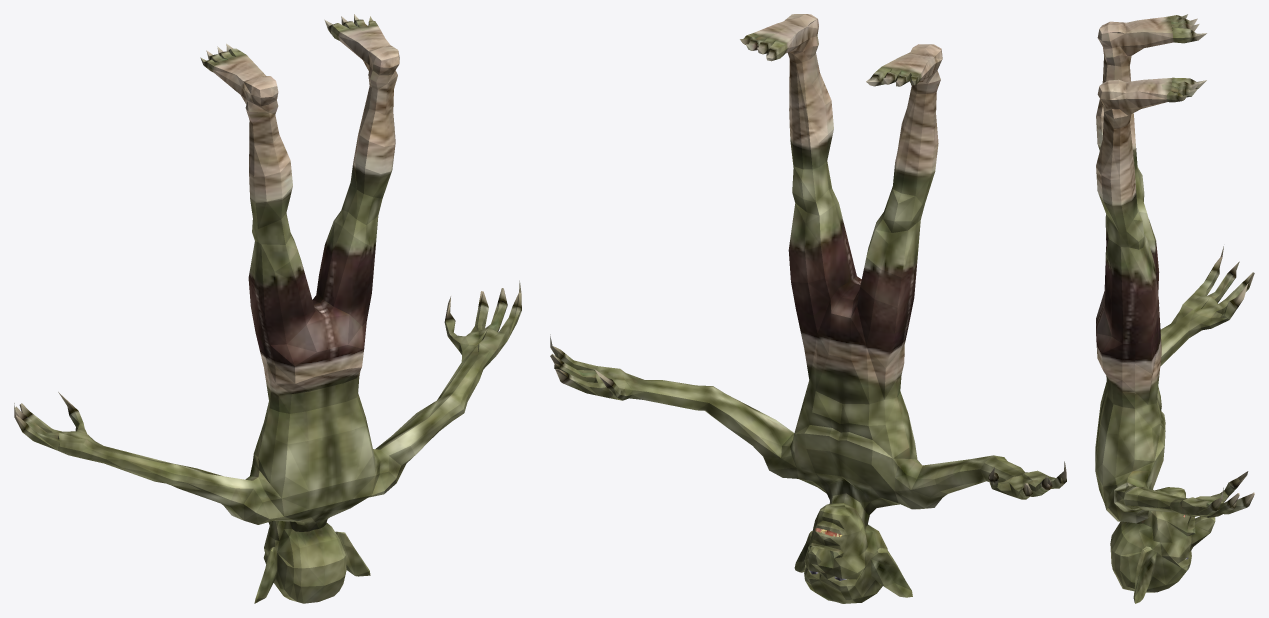
Rendered from goblin.glb.
The picture shows the model from 3 angles, left to right: view 1: azimuth 30°, elevation 25°; view 2: azimuth 150°, elevation 25°; view 3: azimuth 270°, elevation 25°; orthographic projection. The views are drawn at different scales.
Visible parts, largest first — view 1: goblin.obj; view 2: goblin.obj; view 3: goblin.obj.
Boxes of the visible parts, x1=… form: goblin.obj: x1=14, y1=14, x2=521, y2=603; goblin.obj: x1=550, y1=14, x2=1066, y2=603; goblin.obj: x1=1095, y1=14, x2=1254, y2=603.
Bounding box in the file's own units: 0.9699 × 1 × 0.2703.
Materials: 1 (1 with a texture image).
